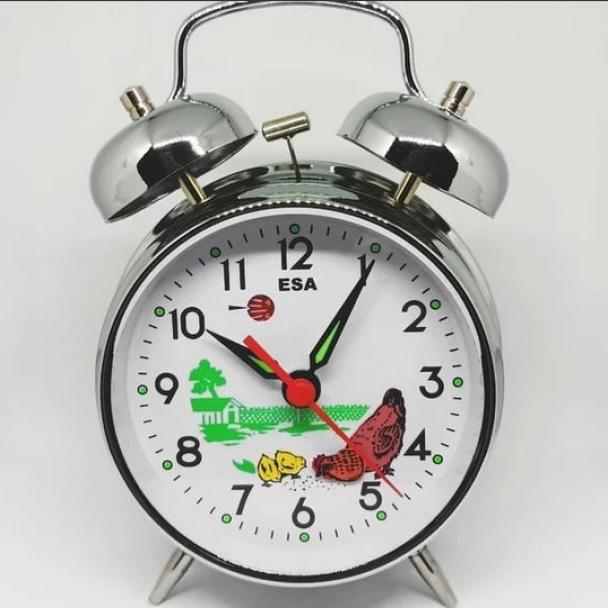Jam: (96, 191, 503, 583)
